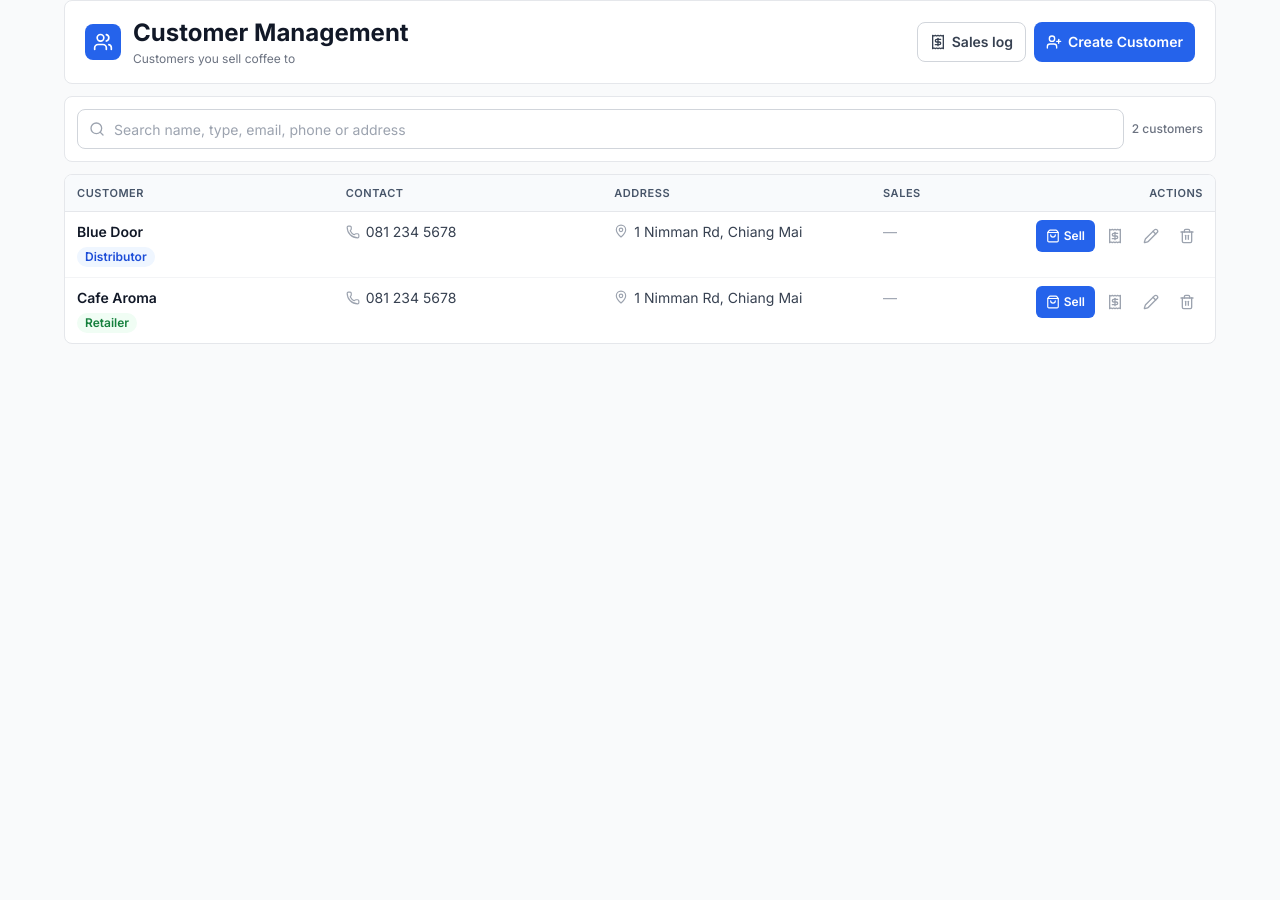
Scenario: CustomerManagement delete › counts cancelled sales too, as the server does
Click the button named "Delete customer Cafe Aroma" at (1187, 302), box left=1171, top=286, right=1203, bottom=318
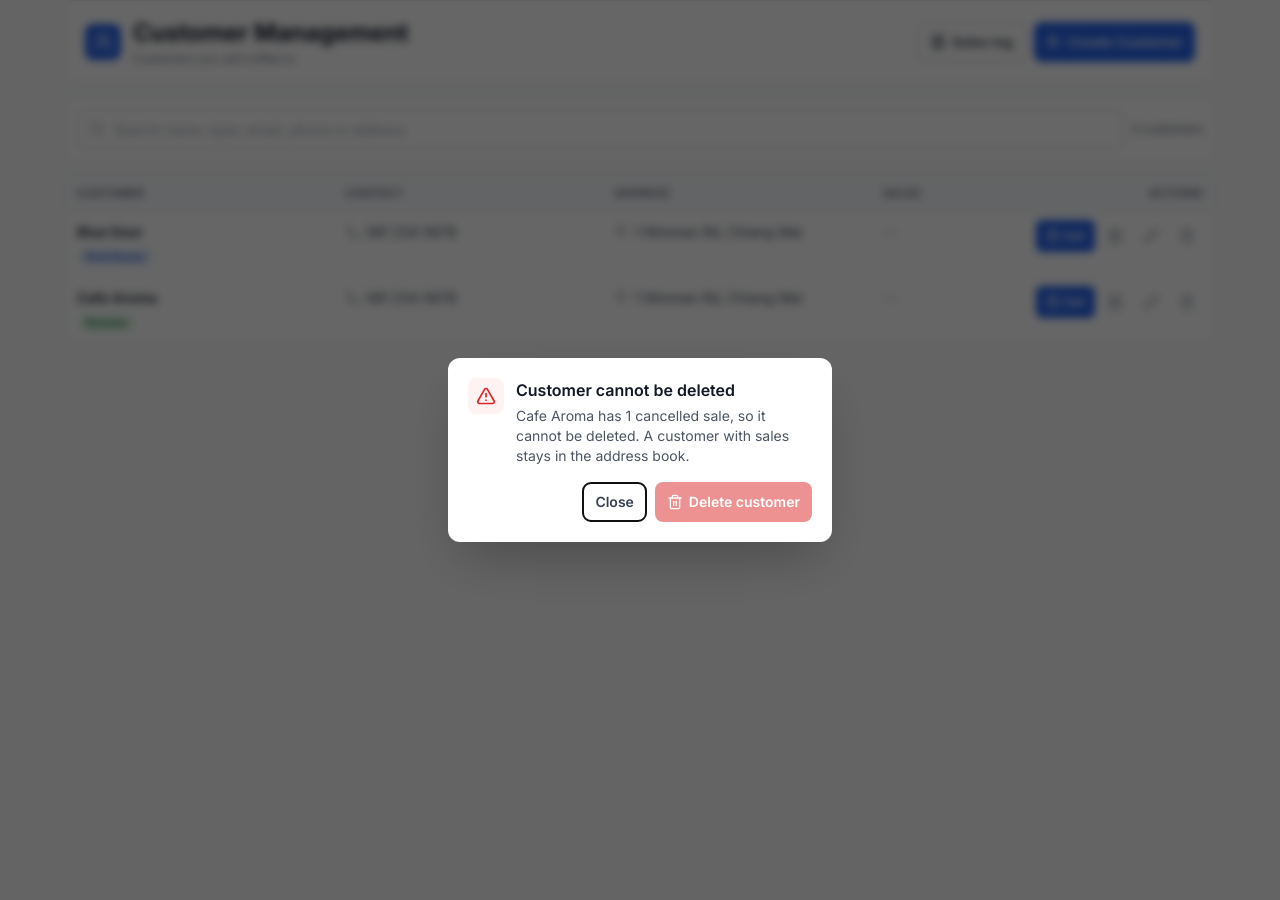
Expected: the dialog shows "Cafe Aroma has 1 cancelled sale, so it cannot be deleted.", left=516, top=407, right=789, bottom=464
Expected: the button "Delete customer" is disabled, left=655, top=482, right=812, bottom=522
